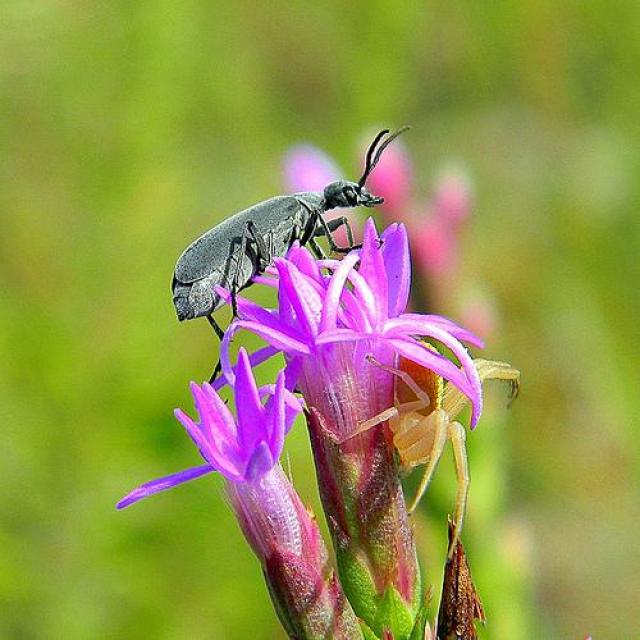BlisterBeetle-Adult-: (166, 115, 423, 327)
